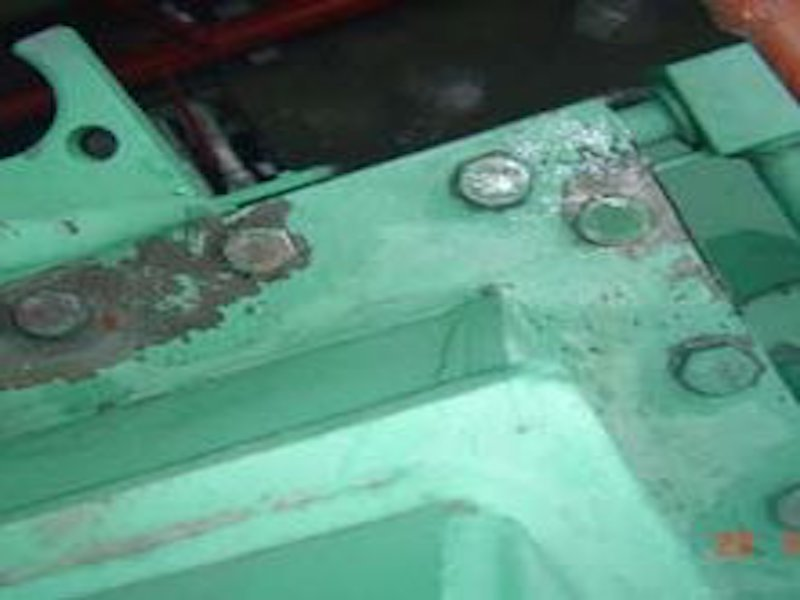bolt: (670, 338, 768, 402), (454, 149, 534, 213), (569, 193, 657, 251), (12, 288, 93, 345), (221, 226, 299, 283)
hole: (66, 123, 121, 167)
